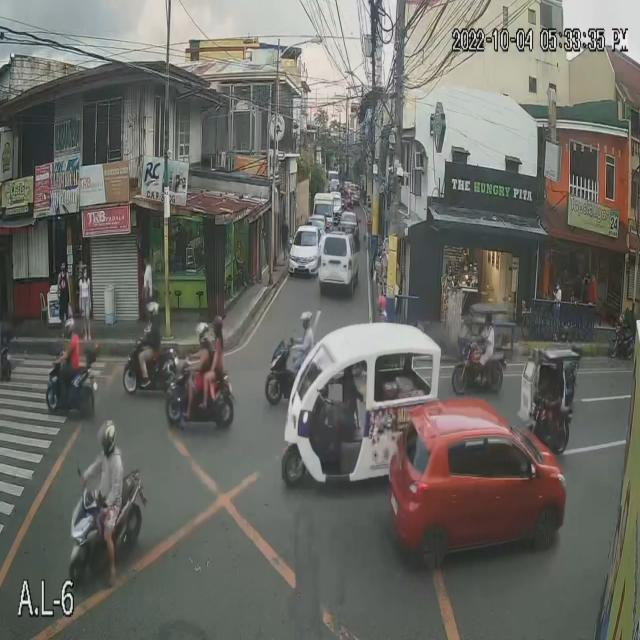full: (98, 416, 116, 456), (195, 321, 210, 348), (62, 318, 76, 339)
half: (299, 306, 314, 332), (211, 314, 223, 336), (146, 302, 159, 322)
